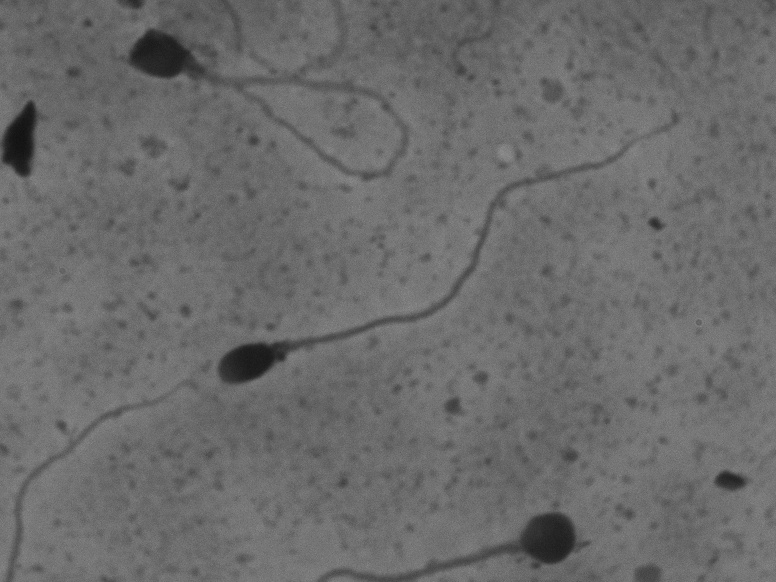Abnormal: (111, 14, 424, 194)
Normal: (197, 100, 721, 402)
